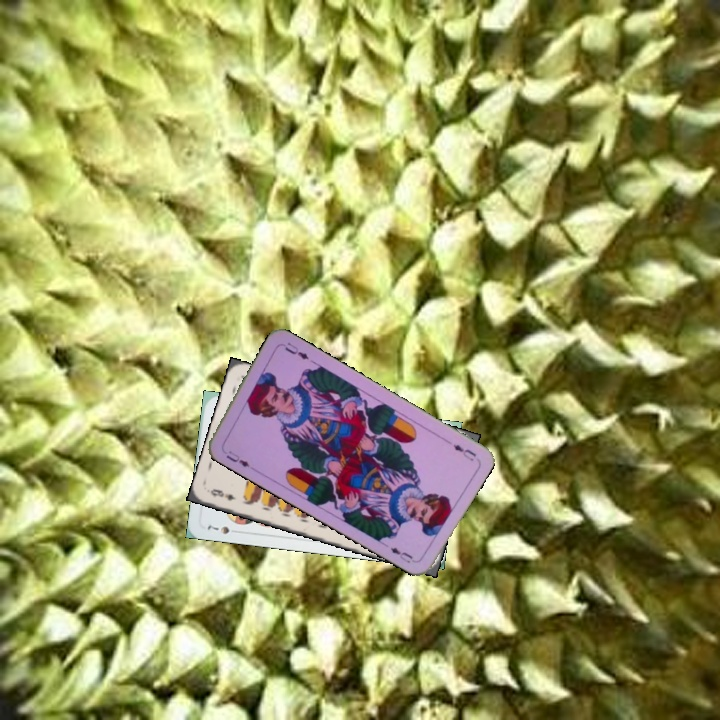E9: (206, 485, 239, 503)
EU: (218, 445, 255, 472), (449, 440, 479, 464)
S7: (204, 520, 242, 537)
